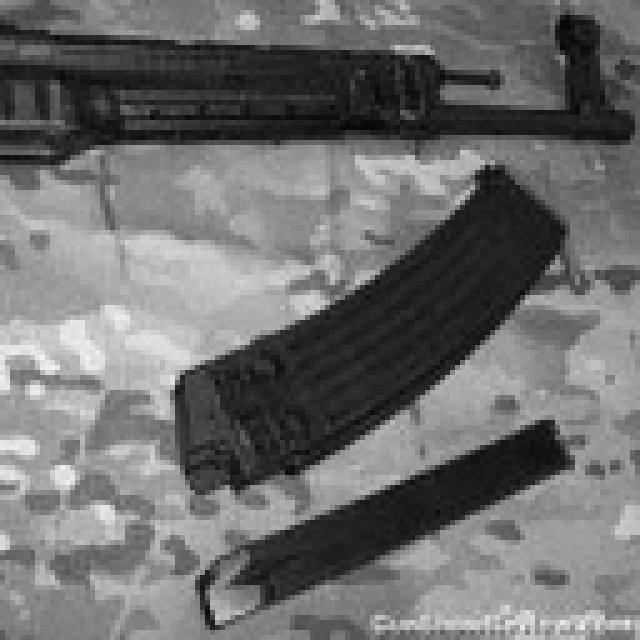Rifle: (0, 0, 640, 219)
